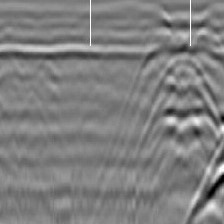Utility: (134, 41, 224, 144)
